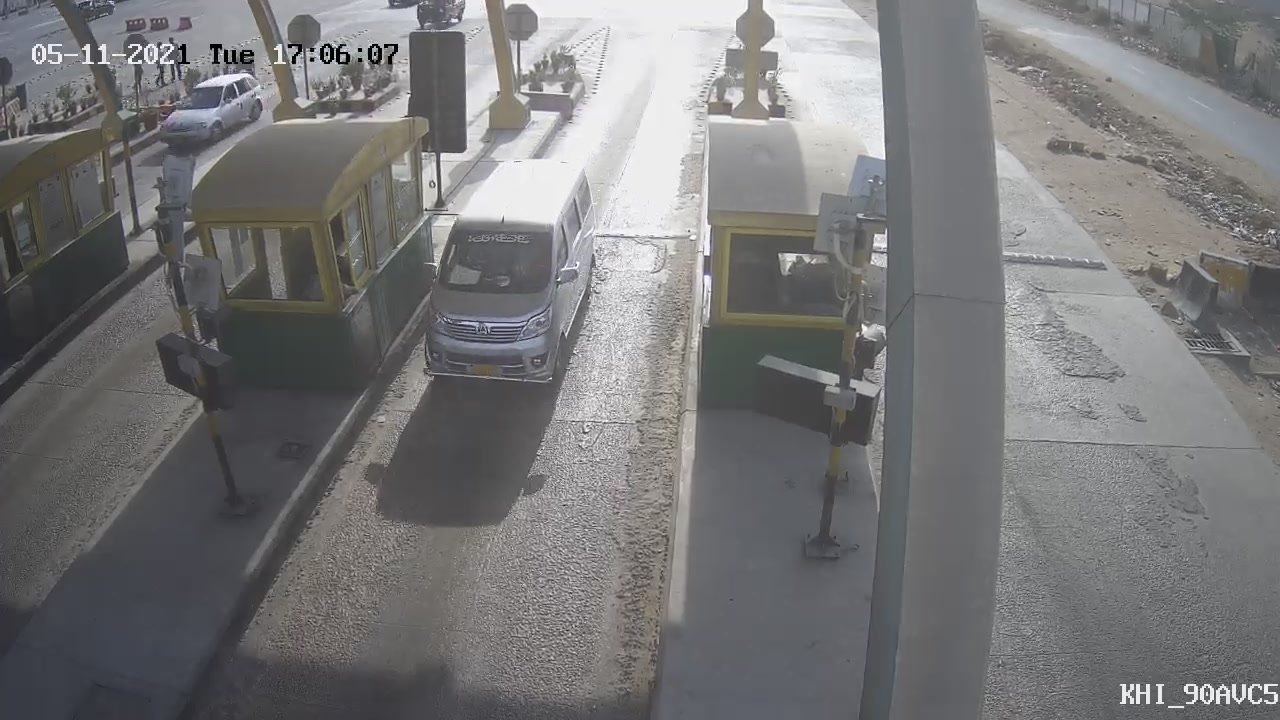F1: (390, 140, 611, 401)
